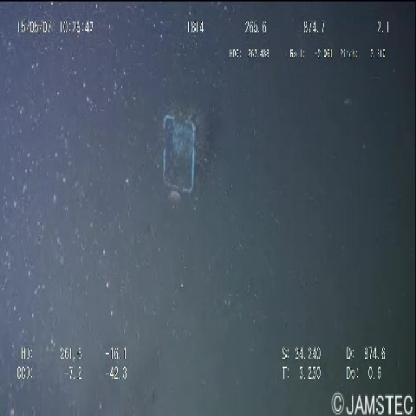Rác: (158, 102, 204, 208)
